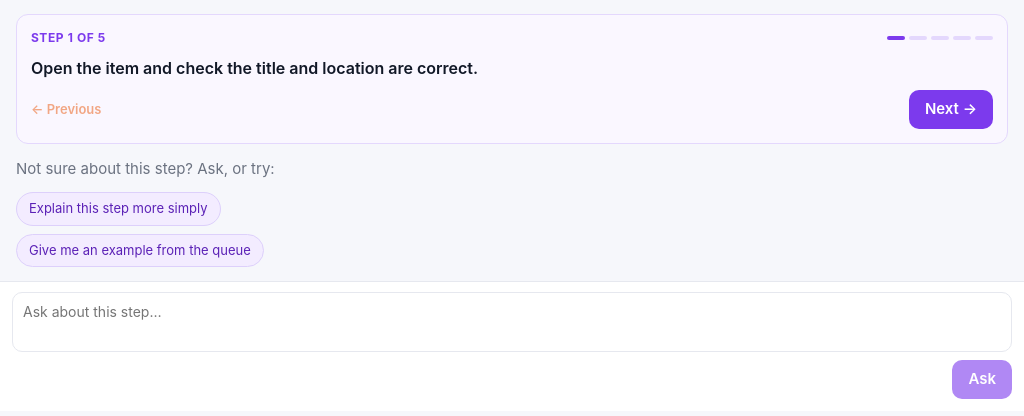
it: TeachView › offers quick follow-ups such as "explain it more simply"
Expected: the text "Step 1 of 5" is shown, [31,29,106,47]
Click the button "Explain this step more simply". click: (118, 209)
box: [16,192,221,226]
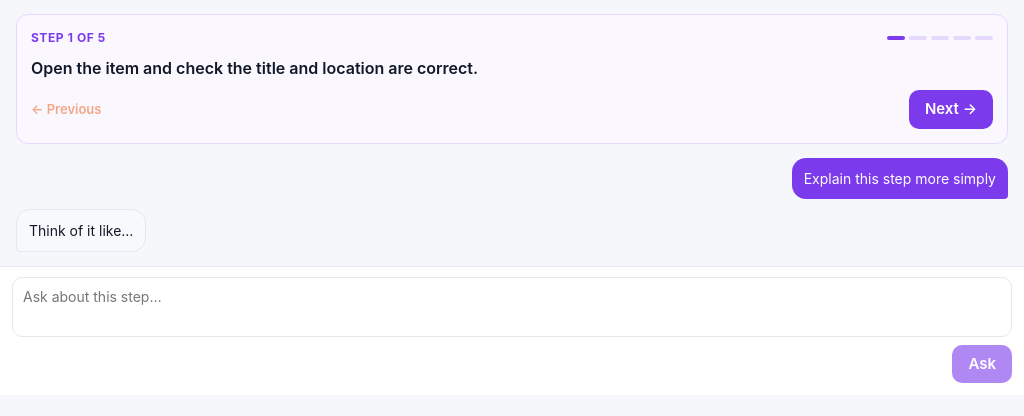
Expected: the text "Think of it like…" is shown, [29,220,133,241]
